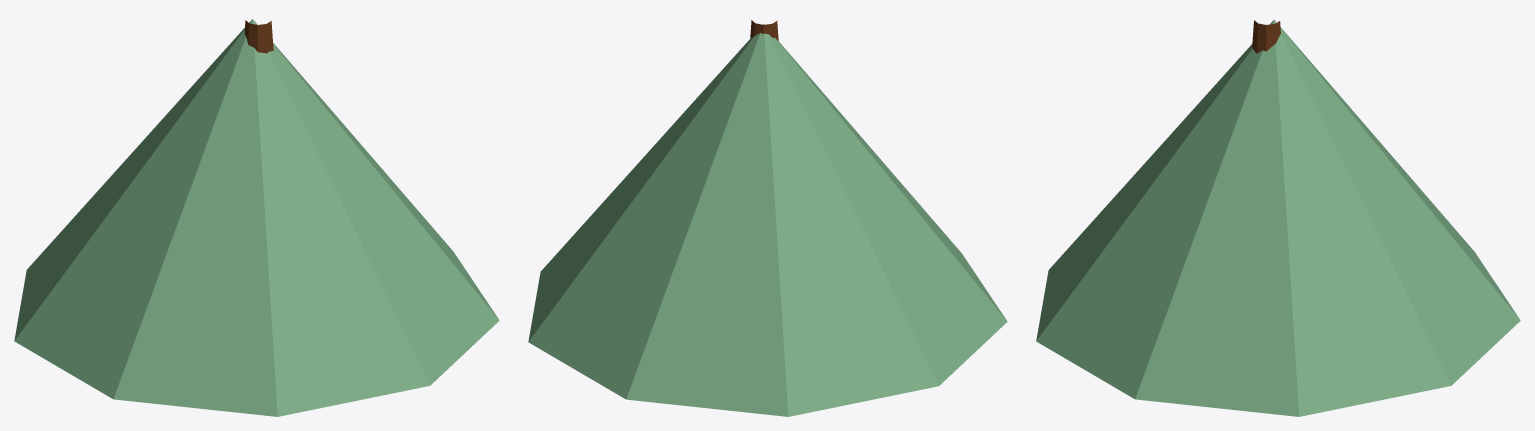
Rendered from nature_pine_sapling.glb.
3 views of the same model, side by side, from view 1: azimuth 30°, elevation 25°; view 2: azimuth 150°, elevation 25°; view 3: azimuth 270°, elevation 25° (orthographic).
Visible parts, largest first — view 1: world; view 2: world; view 3: world.
Part boxes in pixels (left/top/right/bottom): world: left=14, top=19, right=499, bottom=416; world: left=528, top=20, right=1007, bottom=416; world: left=1036, top=19, right=1520, bottom=416.
Size of the model in its own units: 2 by 1.35 by 2.
Materials: 2 (1 with a texture image).
